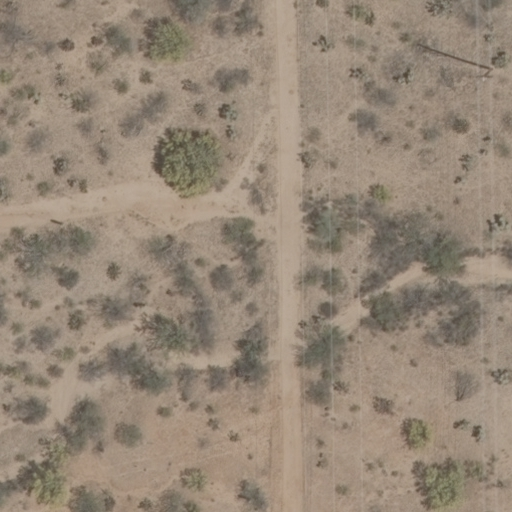DT: (466, 59, 501, 84)
